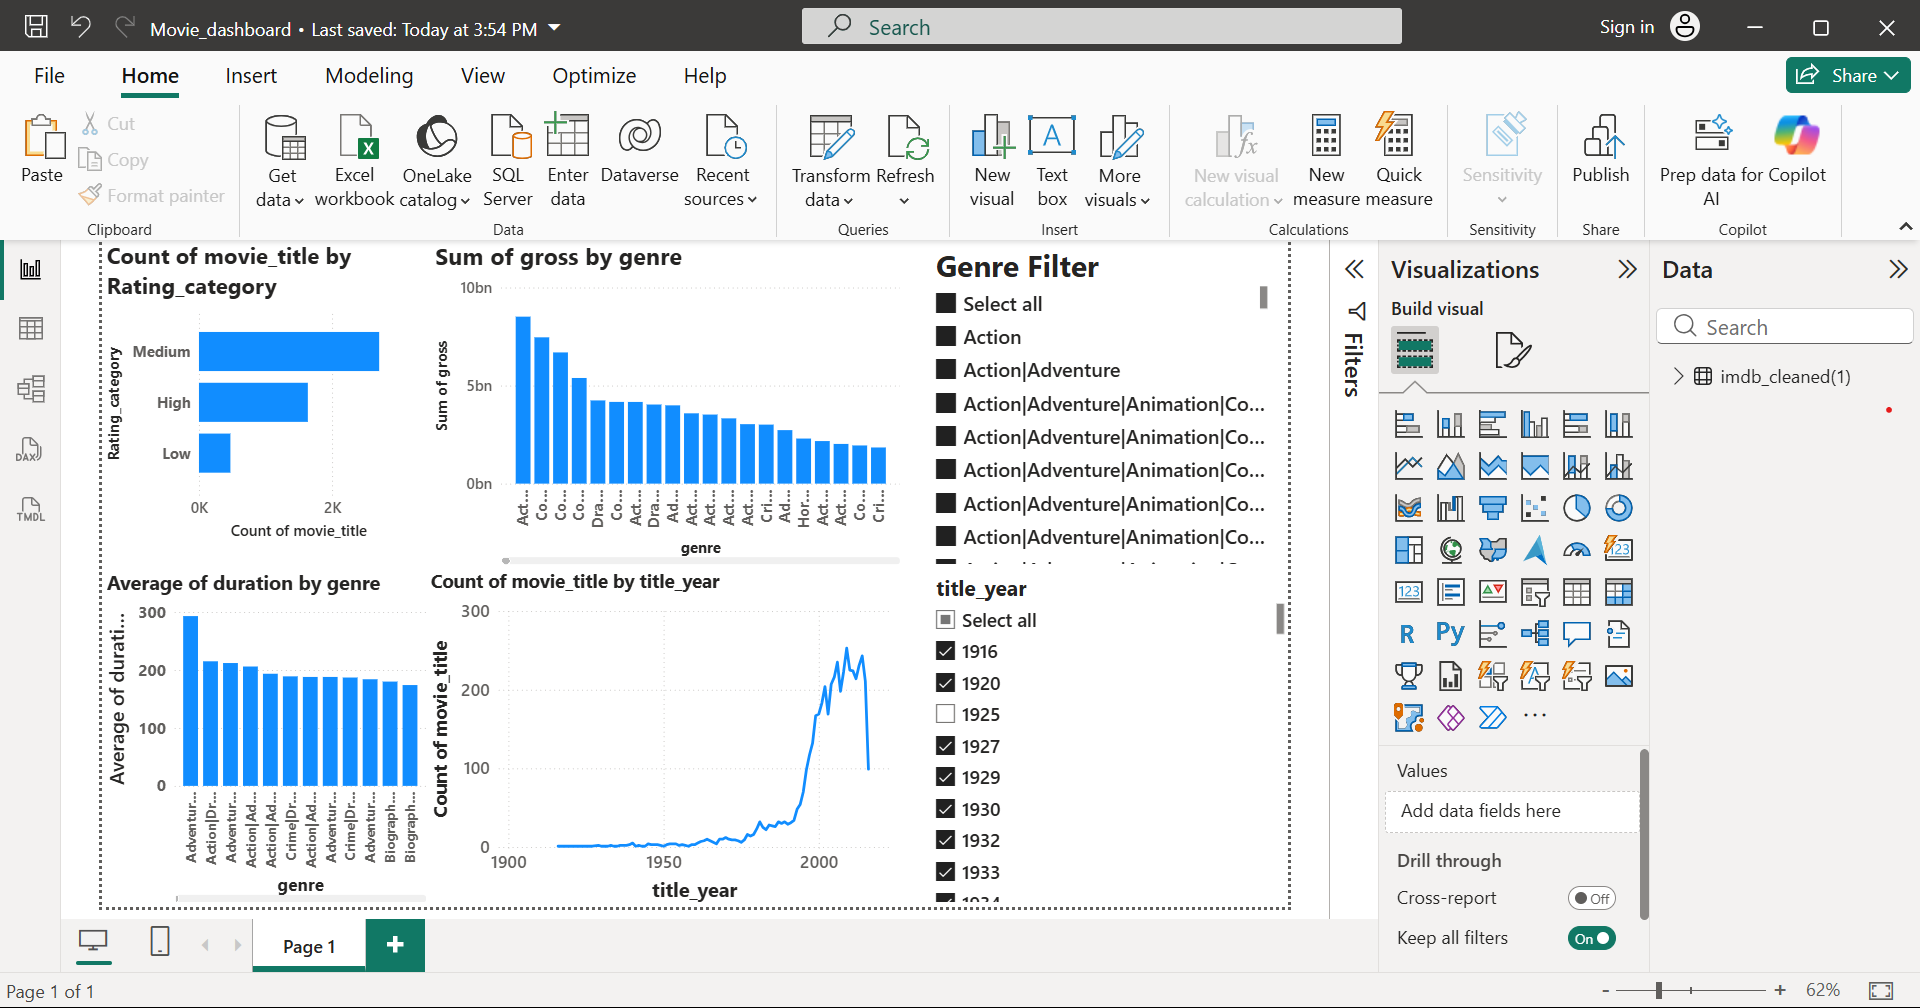

The page's visual inventory and layout, read from the dashboard file:
{"tool":"powerbi","page":{"name":"Page 1","canvas":[1280,720],"ordinal":0},"visuals":[{"type":"clusteredBarChart","fields":{"Category":["imdb_cleaned(1).Rating_category"],"Y":["CountNonNull(imdb_cleaned(1).movie_title)"]},"box":[0,0,335,328.3],"z":0},{"type":"columnChart","fields":{"Category":["imdb_cleaned(1).genre"],"Y":["Sum(imdb_cleaned(1).gross)"]},"box":[355,0,511.7,355],"z":1},{"type":"clusteredColumnChart","fields":{"Category":["imdb_cleaned(1).genre"],"Y":["Avg(imdb_cleaned(1).duration)"]},"box":[0,355,355,365],"z":2},{"type":"lineChart","fields":{"Y":["CountNonNull(imdb_cleaned(1).movie_title)"],"Category":["imdb_cleaned(1).title_year"]},"box":[350,355,516.7,365],"z":3},{"type":"slicer","fields":{"Values":["imdb_cleaned(1).genre"]},"box":[887.1,0,375.7,354.3],"z":4},{"type":"slicer","fields":{"Values":["imdb_cleaned(1).title_year"]},"box":[886.7,355,393.3,365],"z":5}]}

Visuals, with their boxes on the page's 1280x720 design canvas (x1, y1, x2, y2). These are canvas units, not pixel positions in the 1920x1008 screenshot, which may show the page scaled, cropped or inside an application window:
clusteredBarChart - imdb_cleaned(1).Rating_category x CountNonNull(imdb_cleaned(1).movie_title): region(0, 0, 335, 328)
columnChart - imdb_cleaned(1).genre x Sum(imdb_cleaned(1).gross): region(355, 0, 867, 355)
clusteredColumnChart - imdb_cleaned(1).genre x Avg(imdb_cleaned(1).duration): region(0, 355, 355, 720)
lineChart - CountNonNull(imdb_cleaned(1).movie_title) x imdb_cleaned(1).title_year: region(350, 355, 867, 720)
slicer - imdb_cleaned(1).genre: region(887, 0, 1263, 354)
slicer - imdb_cleaned(1).title_year: region(887, 355, 1280, 720)
